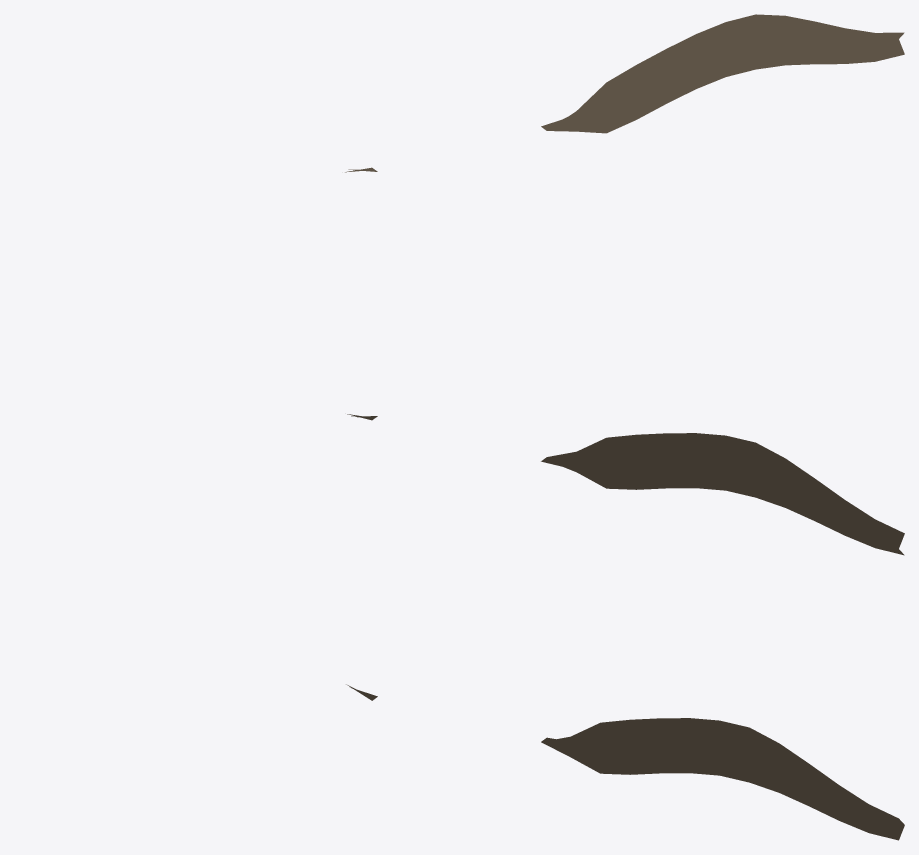
Rendered from thin.glb.
The picture shows the model from 3 angles, top to bottom: view 1: azimuth 30°, elevation 25°; view 2: azimuth 150°, elevation 25°; view 3: azimuth 330°, elevation 25°; orthographic projection.
Parts seen in each view (by area): view 1: eyebrows_thin; view 2: eyebrows_thin; view 3: eyebrows_thin.
Part boxes in pixels (x1,y1,x2,y2): eyebrows_thin: (345, 14, 904, 172); eyebrows_thin: (347, 414, 904, 555); eyebrows_thin: (346, 684, 904, 840).
Size of the model in its own units: 0.84 by 0.0749 by 0.01.
